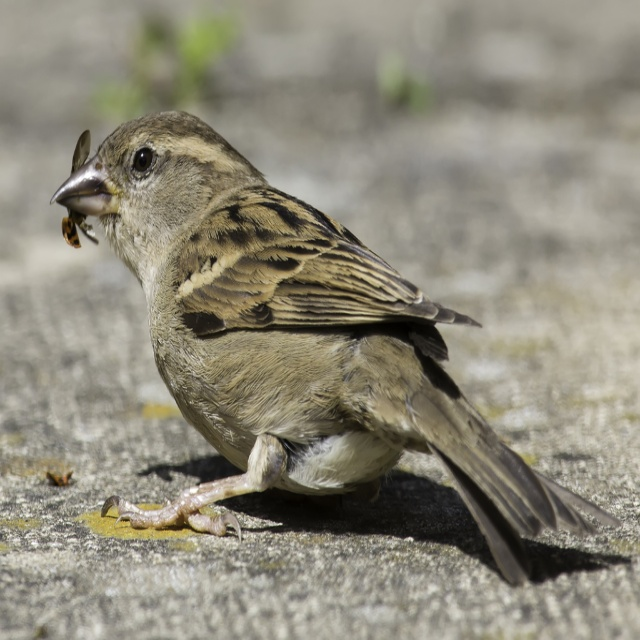Sparrow: (50, 110, 624, 581)
